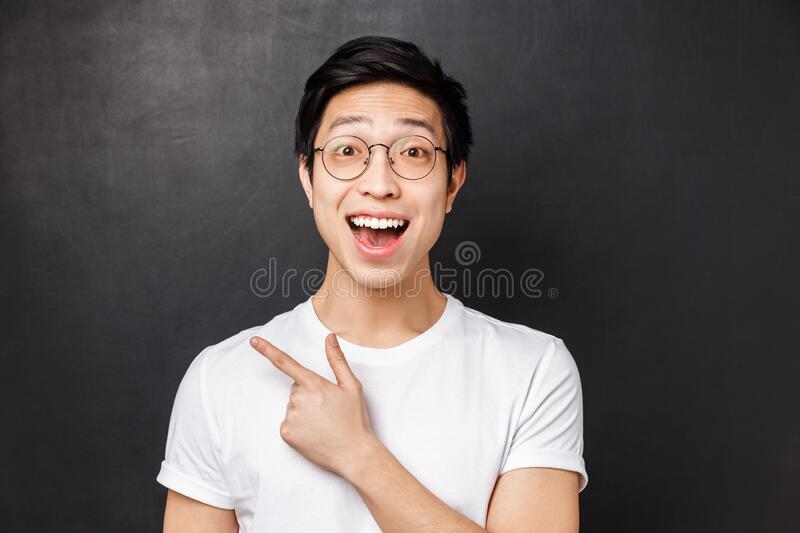bare: (310, 166, 450, 288)
